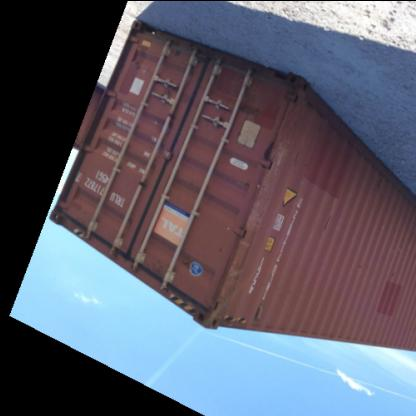Damage: (240, 178, 277, 266), (269, 94, 303, 182), (208, 261, 243, 332)
